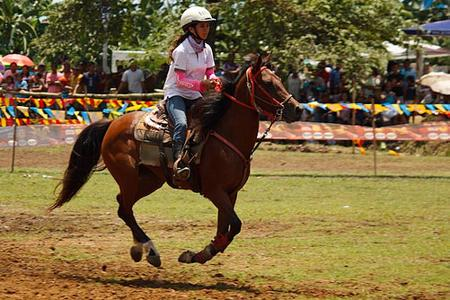person: (162, 6, 224, 181)
